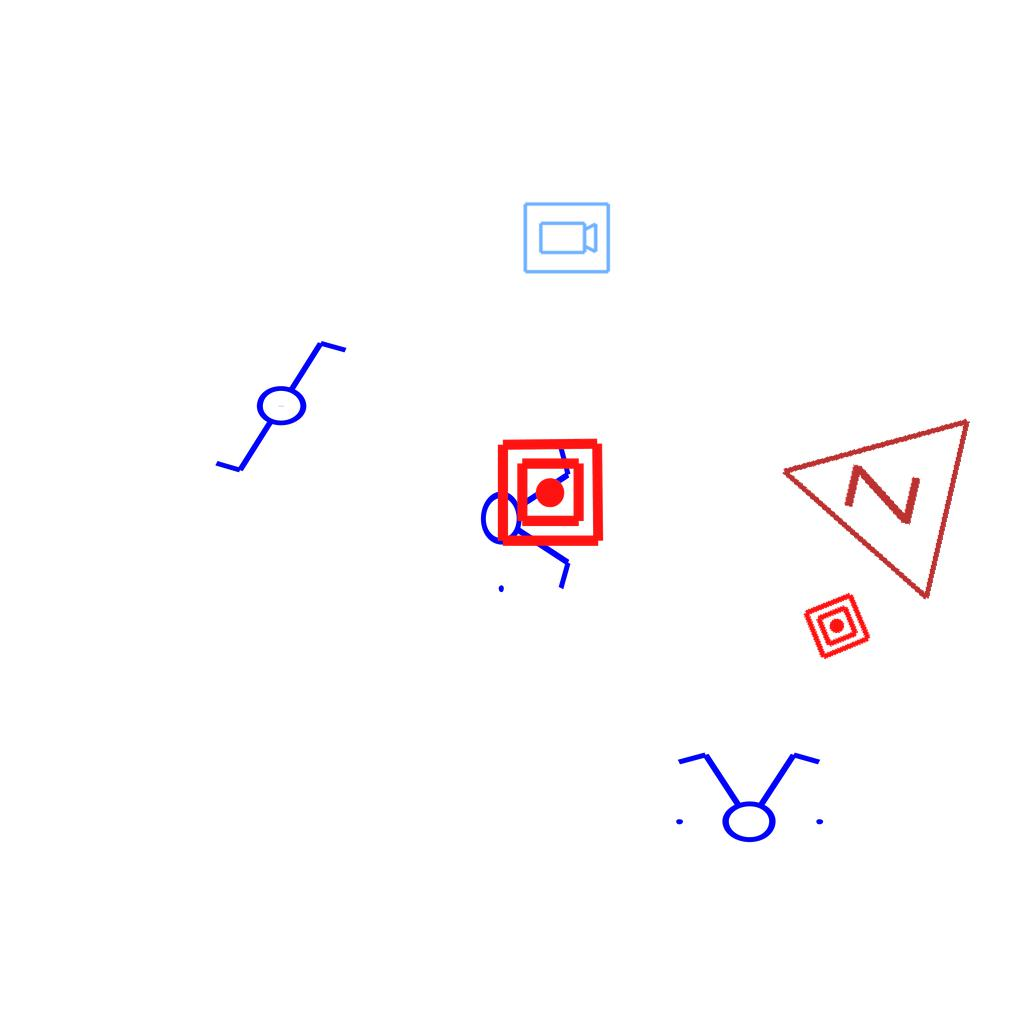KFO_Kamera_mit_Festobjektiv: (521, 200, 612, 277)
NAM-Nichtautomatischer_Melder: (494, 436, 607, 549), (800, 589, 874, 663)
Serienschalter: (479, 433, 575, 601), (664, 748, 832, 844)
Wechselschalter: (211, 336, 368, 480)
Zimmersignalleuchte: (746, 375, 986, 611)
